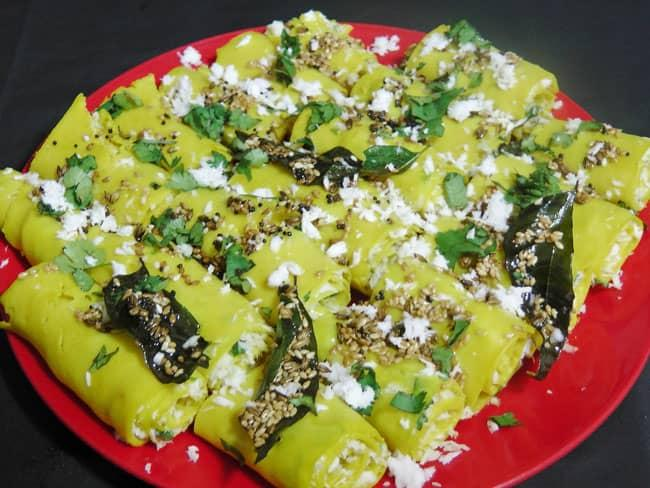khandvi: (7, 49, 650, 473)
